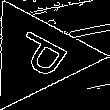P_SE: (2, 27, 73, 84)
